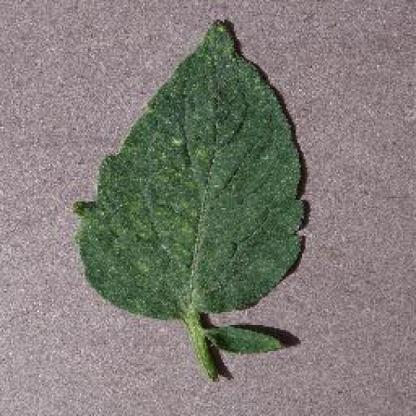Tomato_Spider_Mites: (75, 19, 305, 318)
